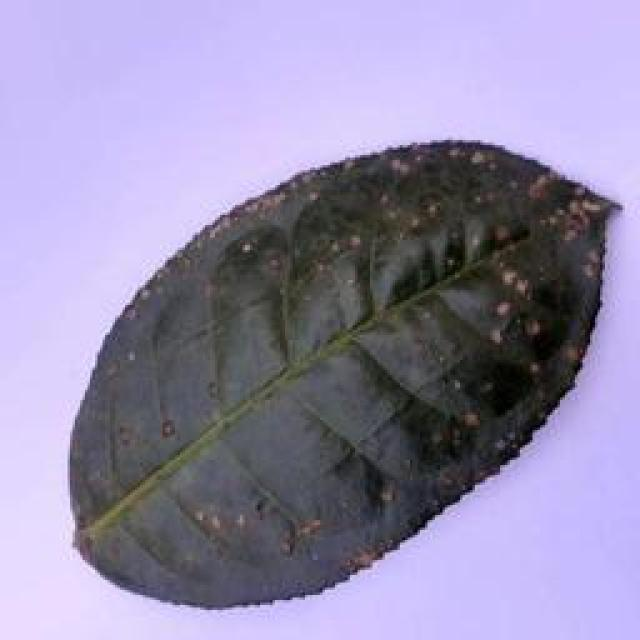Algal Leaf Spot: (54, 137, 622, 615)
